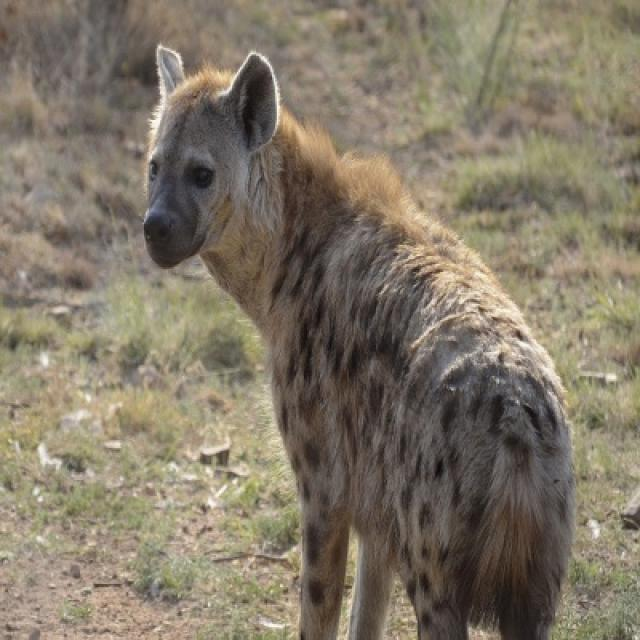hyena: (141, 46, 578, 638)
